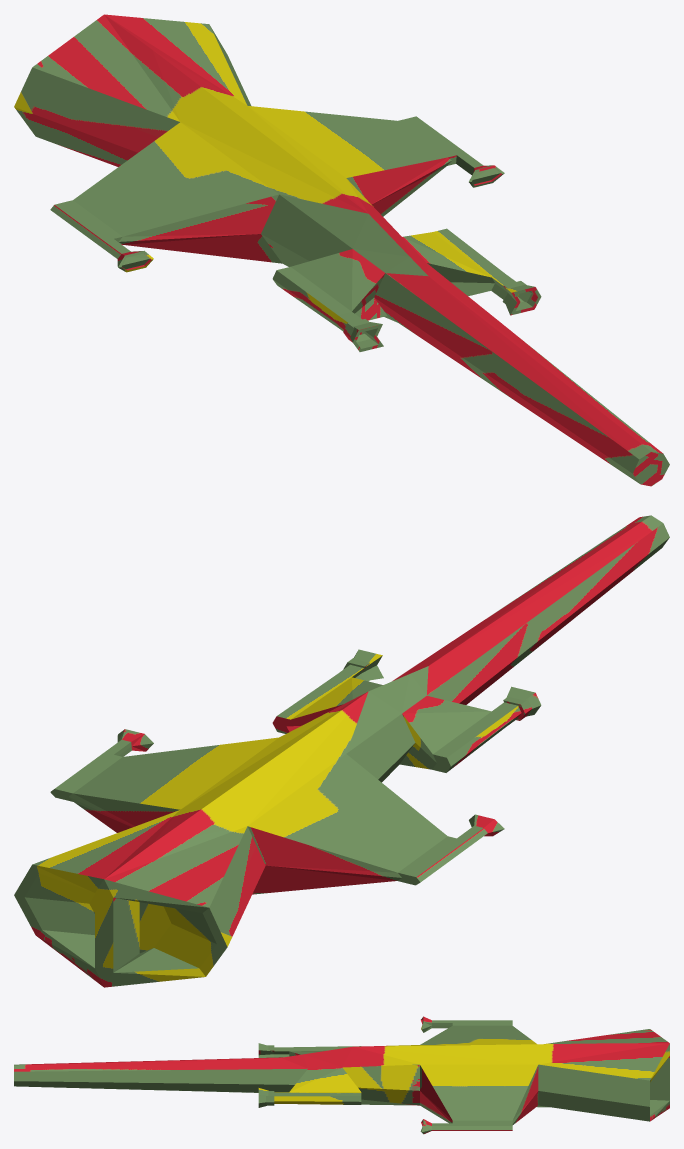
The model's file is space_ship.obj.
The picture shows the model from 3 angles, top to bottom: view 1: azimuth 30°, elevation 25°; view 2: azimuth 150°, elevation 25°; view 3: azimuth 270°, elevation 25°; orthographic projection. The views are drawn at different scales.
Visible parts, largest first — view 1: Cube; view 2: Cube; view 3: Cube.
Part boxes in pixels (x1,y1,x2,y2): Cube: (14,14,669,486); Cube: (14,515,669,987); Cube: (14,1016,669,1134).
Bounding box in the file's own units: 7.48 × 2 × 18.32.
